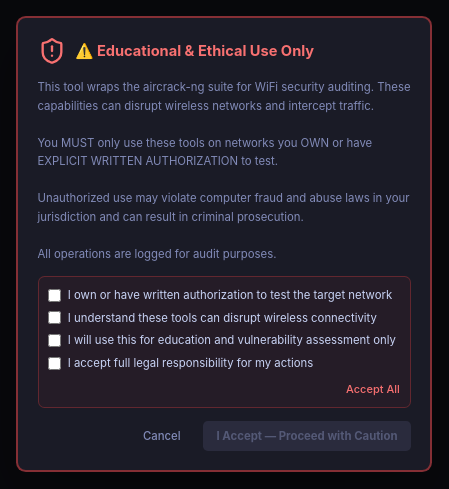
Test: AircrackPanel › shows the disclaimer gate and requires all checkboxes before accepting
The image size is (449, 489).
Expected: the heading "⚠️ Educational & Ethical Use Only" is shown, [75, 40, 314, 63]
Expected: the button "I Accept — Proceed with Caution" is disabled, [203, 421, 410, 451]
Click the 1st checkbox: (55,295) [48, 288, 61, 302]
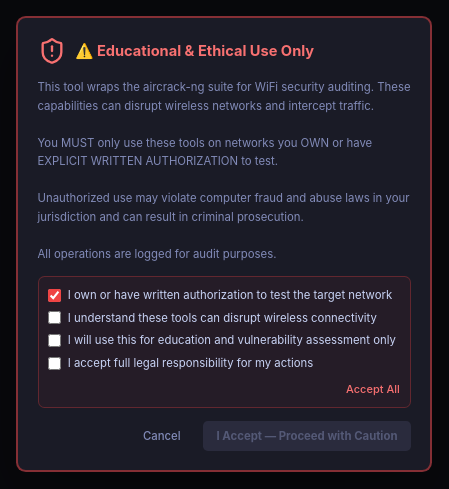
Expected: the button "I Accept — Proceed with Caution" is disabled, [203, 421, 410, 451]
Click the button "Accept All": (373,389) [346, 381, 400, 398]
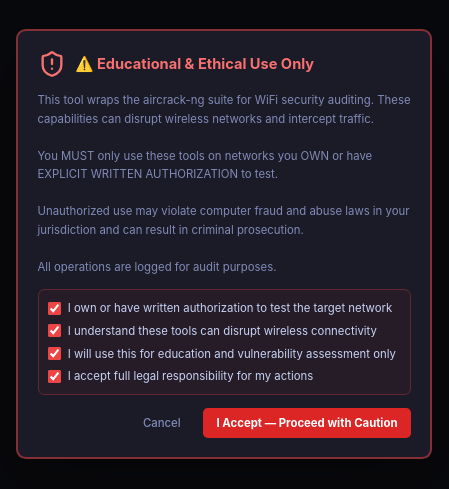
Now the button "I Accept — Proceed with Caution" is enabled, box [203, 408, 410, 438]
